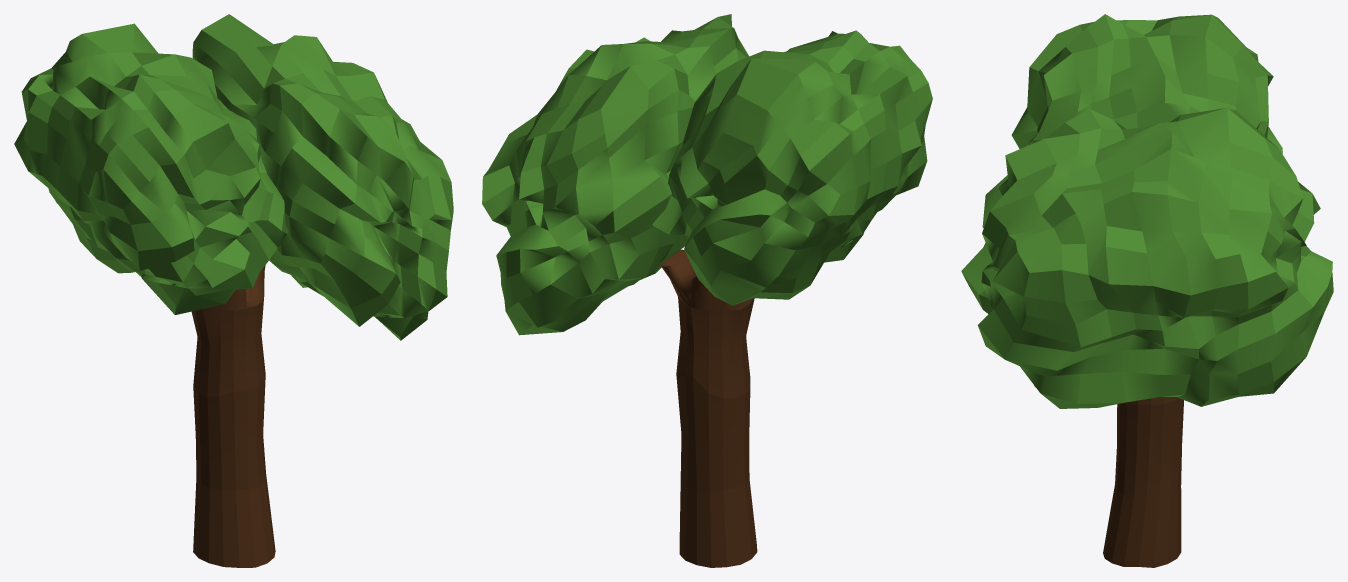
The model's file is Tree2.fbx.
3 renders of one model, left to right at view 1: azimuth 30°, elevation 25°; view 2: azimuth 150°, elevation 25°; view 3: azimuth 270°, elevation 25°, orthographic. The views are drawn at different scales.
Visible parts, largest first — view 1: Tree3; view 2: Tree3; view 3: Tree3.
Boxes of the visible parts, box(x1,y1,x2,y2) form: Tree3: box(14, 14, 453, 567); Tree3: box(482, 14, 932, 567); Tree3: box(961, 14, 1333, 567).
Size of the model in its own units: 553 by 786 by 545.
